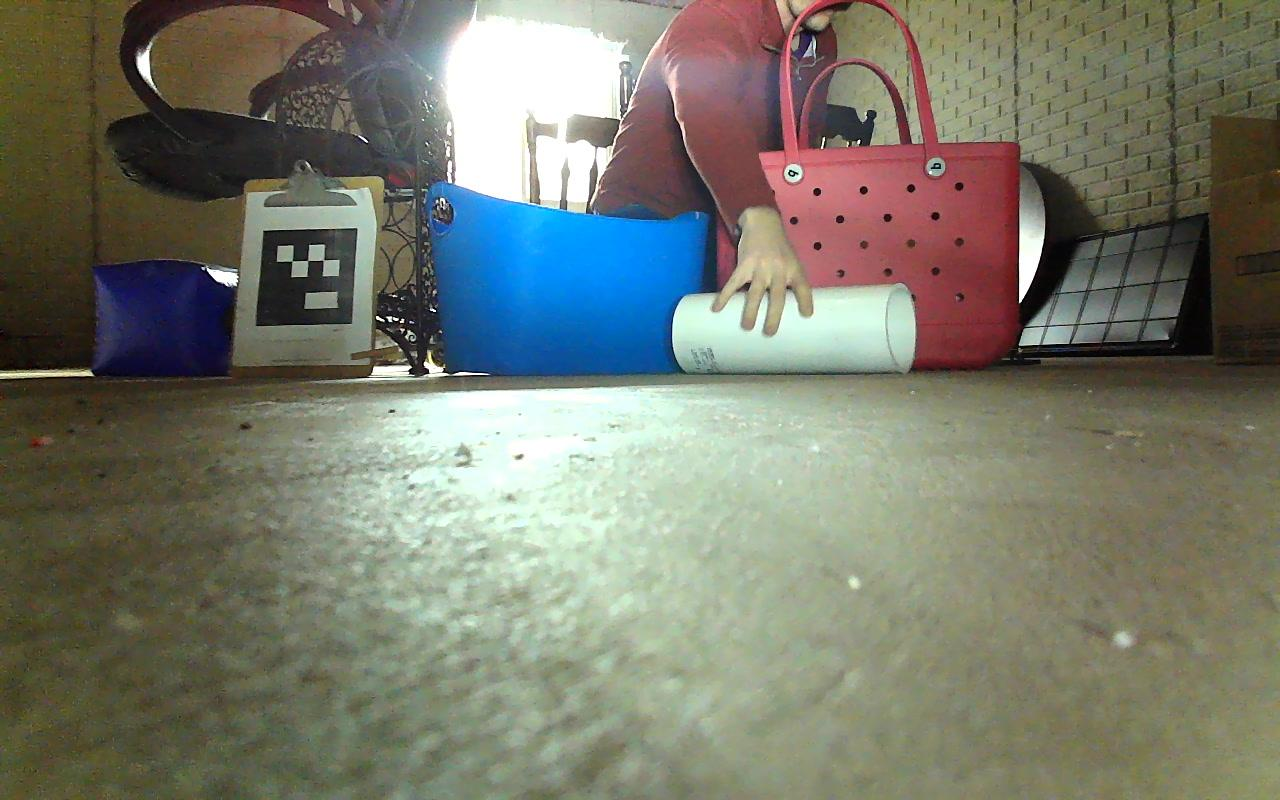coral: (670, 283, 916, 374)
